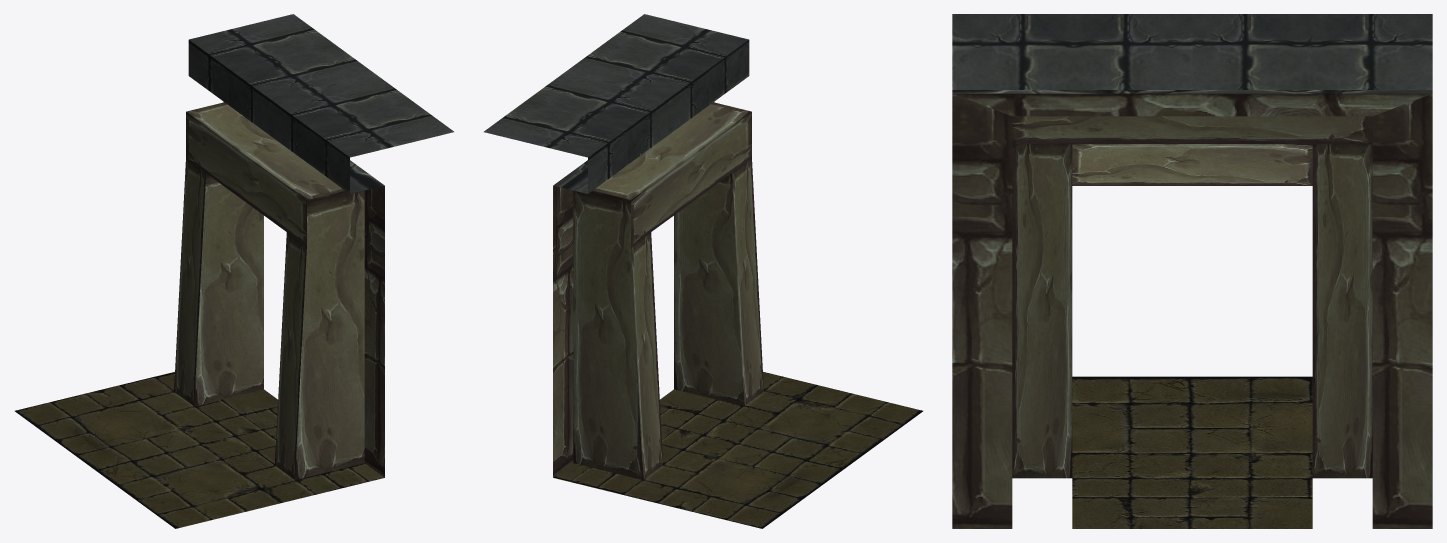
Rendered from door_way_tile.FBX.
3 views of the same model, side by side, from view 1: azimuth 30°, elevation 25°; view 2: azimuth 150°, elevation 25°; view 3: azimuth 270°, elevation 25° (orthographic). The views are drawn at different scales.
Visible parts, largest first — view 1: doorway; view 2: doorway; view 3: doorway.
Boxes of the visible parts, bbox=[...] form: doorway: bbox=[15, 14, 453, 528]; doorway: bbox=[484, 14, 922, 528]; doorway: bbox=[952, 14, 1432, 528].
Bounding box in the file's own units: 40 × 45 × 40.
Materials: 1 (1 with a texture image).
